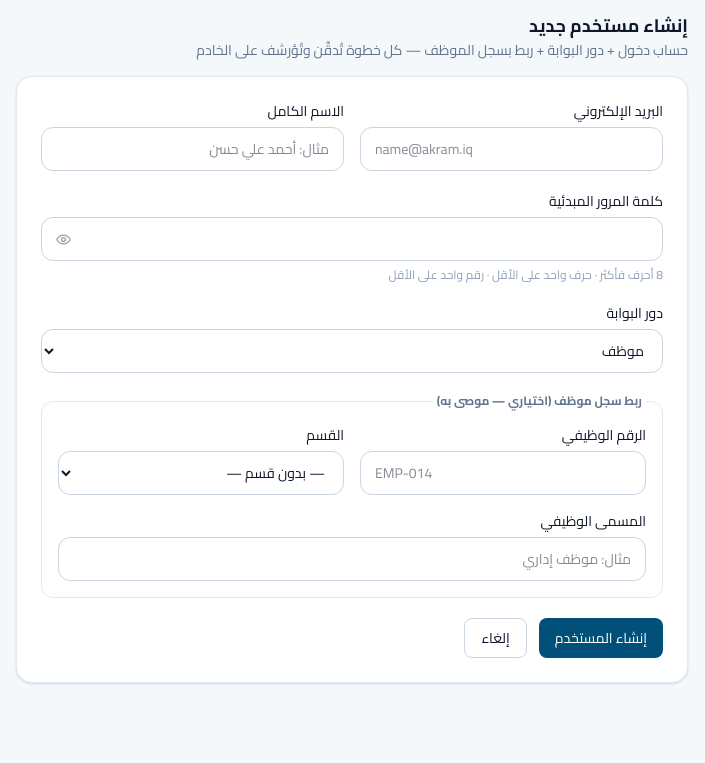
Test case: CreateUser — إنشاء مستخدم › يظهر تحذير الصلاحية العالية عند اختيار الإدارة العليا
Select "مدير مفوض" in the dropdown with test id "create-role" at x=352, y=351, box [41, 329, 663, 373]
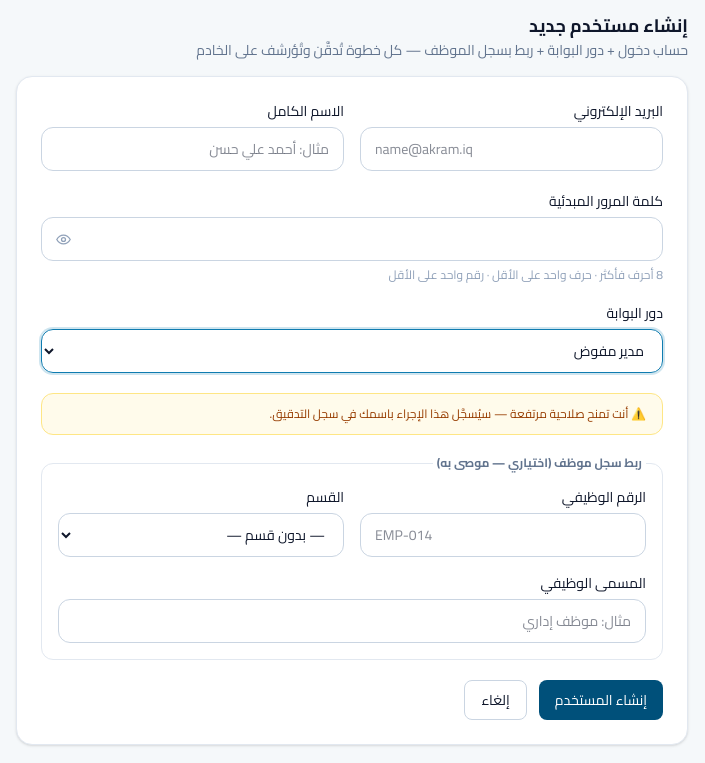
Result: the text "صلاحية مرتفعة" is shown at [270, 402, 646, 425]
